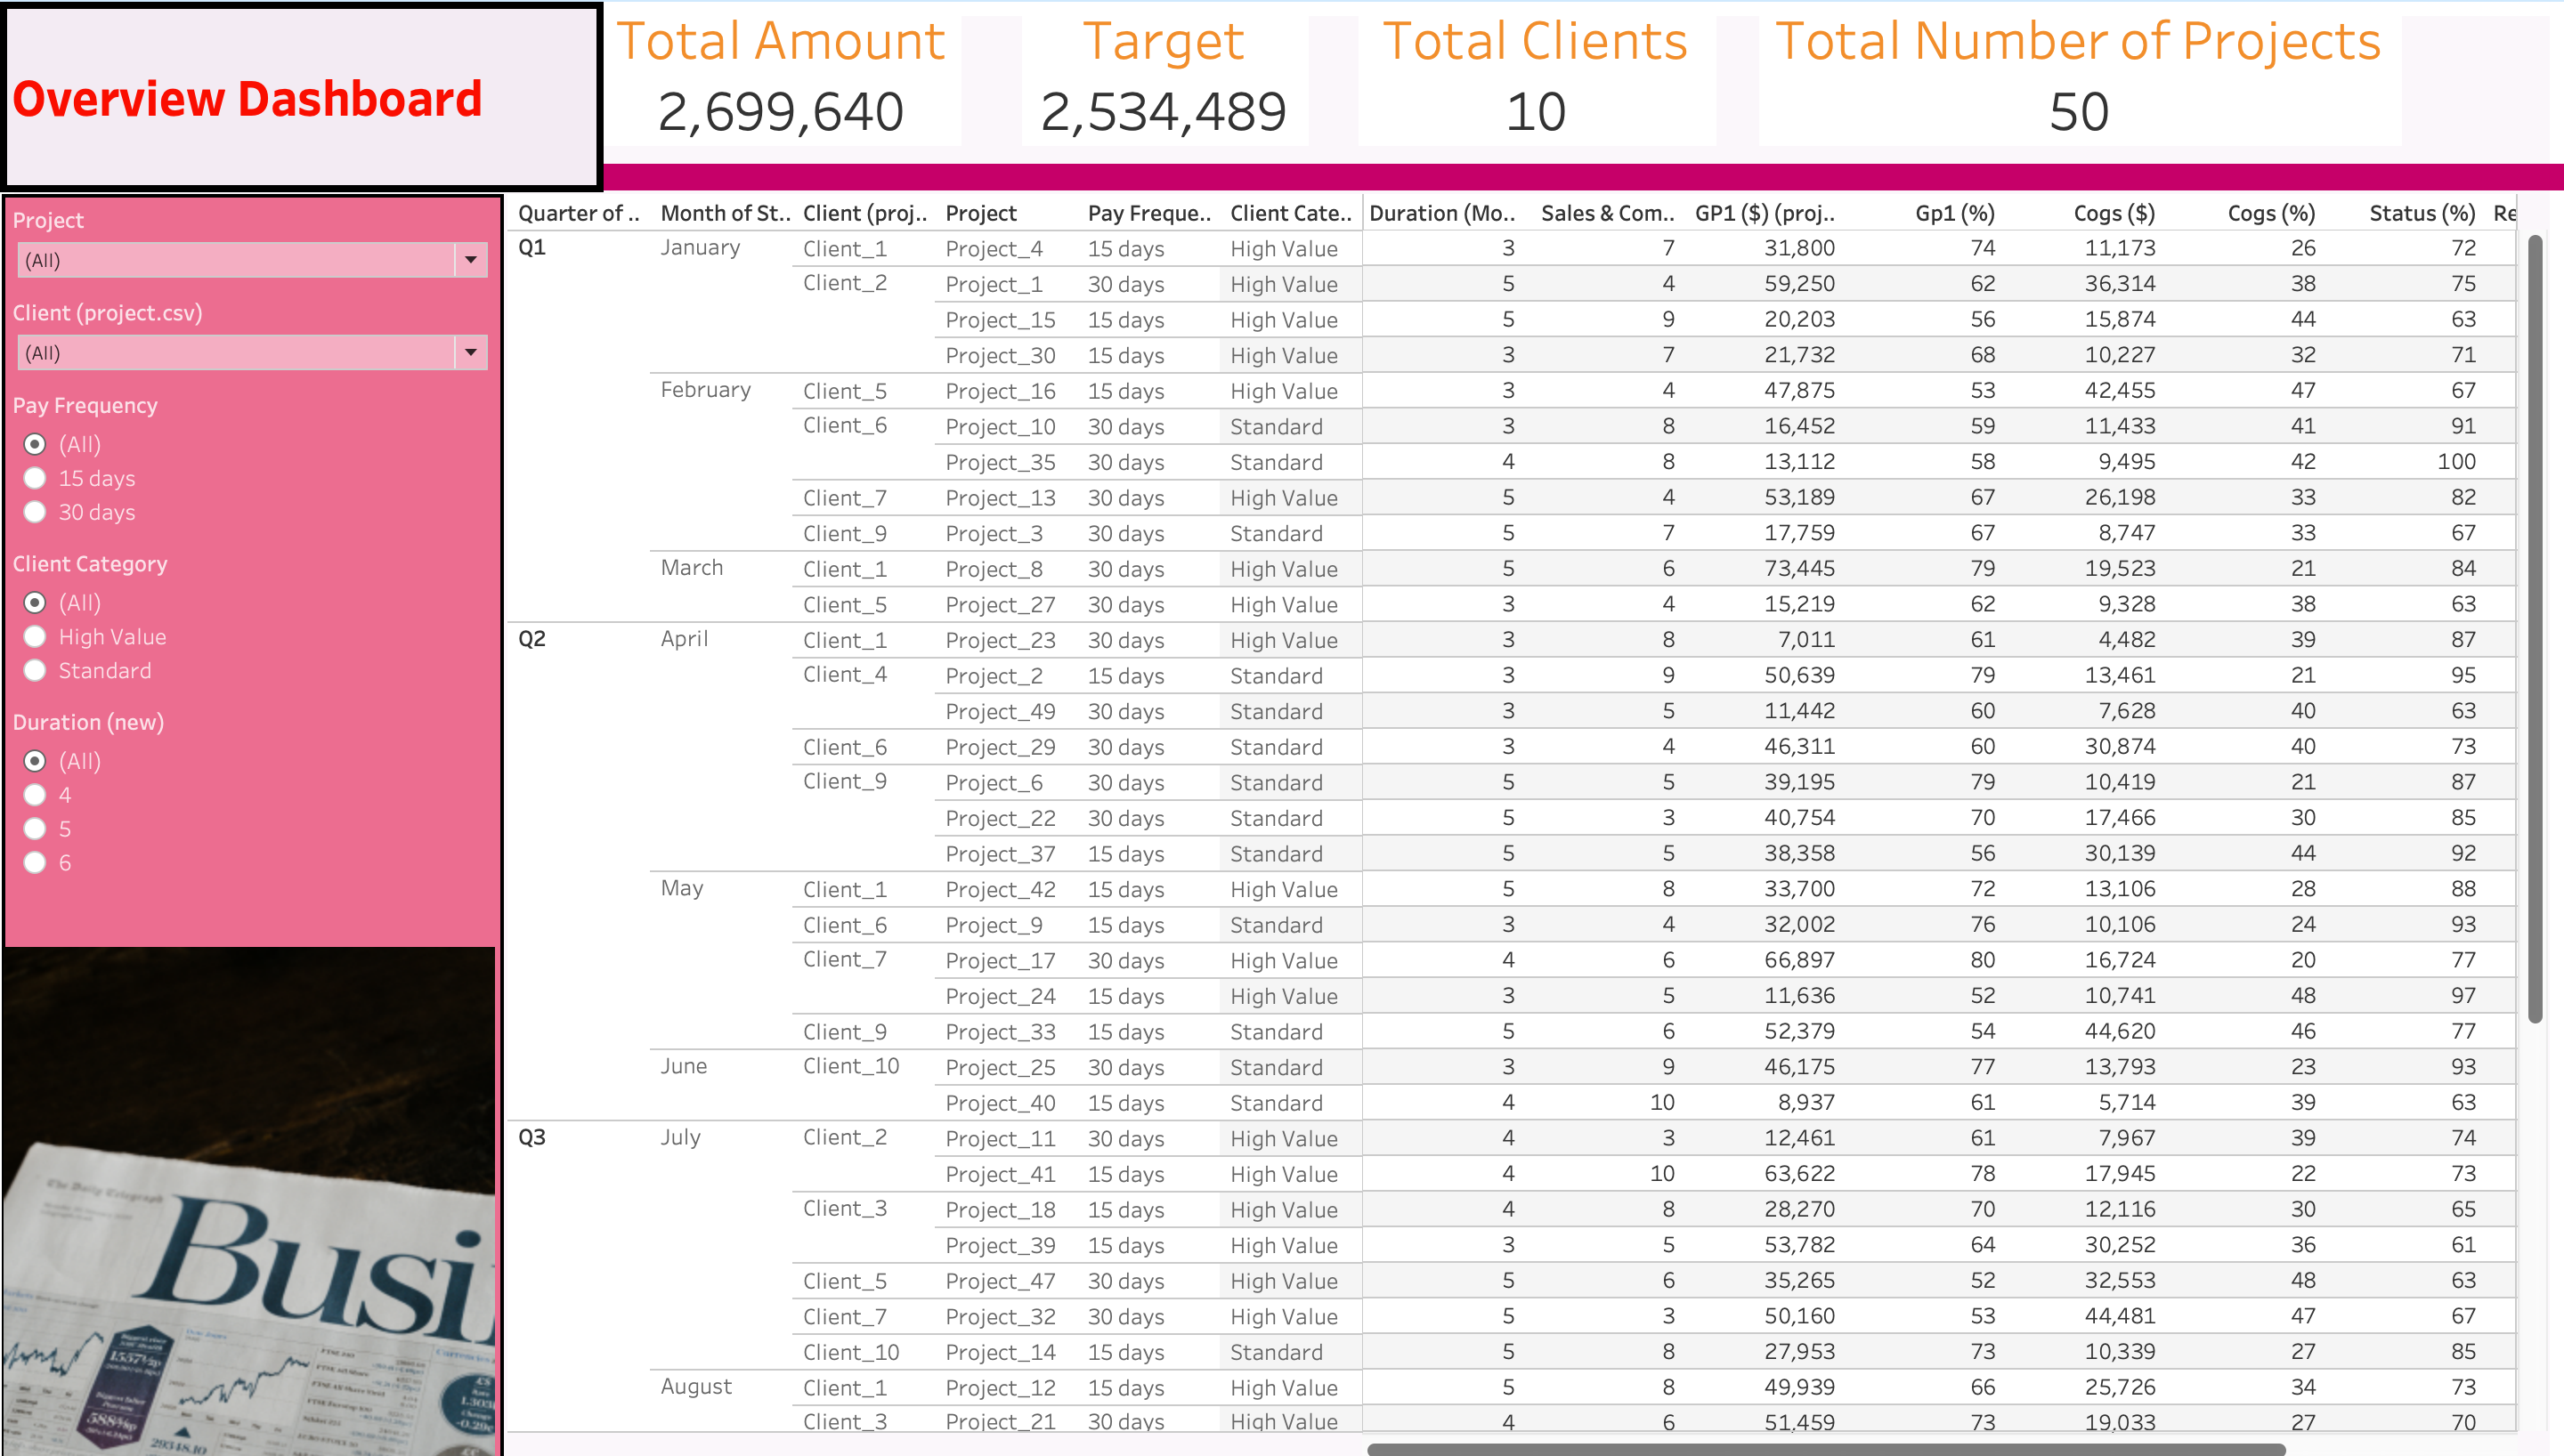

The dashboard page shown, as its layout file describes it:
{"tool":"tableau","page":{"name":"Second Page","canvas":[1000,1000],"units":"permille","ordinal":1},"visuals":[{"type":"text","box":[0,0,235.2,128.9]},{"type":"worksheet","title":"Total Amount","mark":"Text","box":[235.2,0,188,132.8]},{"type":"worksheet","title":"Total Target","mark":"Automatic","box":[398.7,0,242.5,131.5]},{"type":"worksheet","title":"Total Clients","mark":"Automatic","box":[529.7,0,223.8,113.3]},{"type":"worksheet","title":"Total Projects","mark":"Automatic","box":[685.9,0,310.8,119.8]},{"type":"worksheet","title":"Quateraly seg","mark":"Automatic","rows":["Start Date","Start Date","Client (project.csv)","Project","Pay Frequency","Client Category"],"box":[197.7,130.2,795.8,859.4]},{"type":"filter","title":"Quateraly seg","param":"[federated.0uw7651149z3m51ds54ax019m0ex].[none:Project:nk]","box":[2.8,132.7,192.2,65.5]},{"type":"filter","title":"Quateraly seg","param":"[federated.0uw7651149z3m51ds54ax019m0ex].[none:Client (project.csv):nk]","box":[2.8,198.2,192.2,65.5]},{"type":"filter","title":"Quateraly seg","param":"[federated.0uw7651149z3m51ds54ax019m0ex].[none:Pay Frequency:nk]","box":[2.8,263.7,192.2,112.1]},{"type":"filter","title":"Quateraly seg","param":"[federated.0uw7651149z3m51ds54ax019m0ex].[none:Client Category:nk]","box":[2.8,375.8,192.2,112.1]},{"type":"filter","title":"Quateraly seg","param":"[federated.0uw7651149z3m51ds54ax019m0ex].[none:Calculation_301248595432599552:ok","box":[2.8,487.9,192.2,136]}]}

Visuals, with their boxes on the dashboard's canvas, which has no fixed pixel size, in thousandths of its width and height (x1, y1, x2, y2). These are canvas units, not pixel positions in the 2564x1456 screenshot, which may show the page scaled, cropped or inside an application window:
text: bbox=(0, 0, 235, 129)
"Total Amount" worksheet (Text marks): bbox=(235, 0, 423, 133)
"Total Target" worksheet: bbox=(399, 0, 641, 132)
"Total Clients" worksheet: bbox=(530, 0, 754, 113)
"Total Projects" worksheet: bbox=(686, 0, 997, 120)
"Quateraly seg" worksheet: bbox=(198, 130, 994, 990)
"Quateraly seg" filter: bbox=(3, 133, 195, 198)
"Quateraly seg" filter: bbox=(3, 198, 195, 264)
"Quateraly seg" filter: bbox=(3, 264, 195, 376)
"Quateraly seg" filter: bbox=(3, 376, 195, 488)
"Quateraly seg" filter: bbox=(3, 488, 195, 624)
